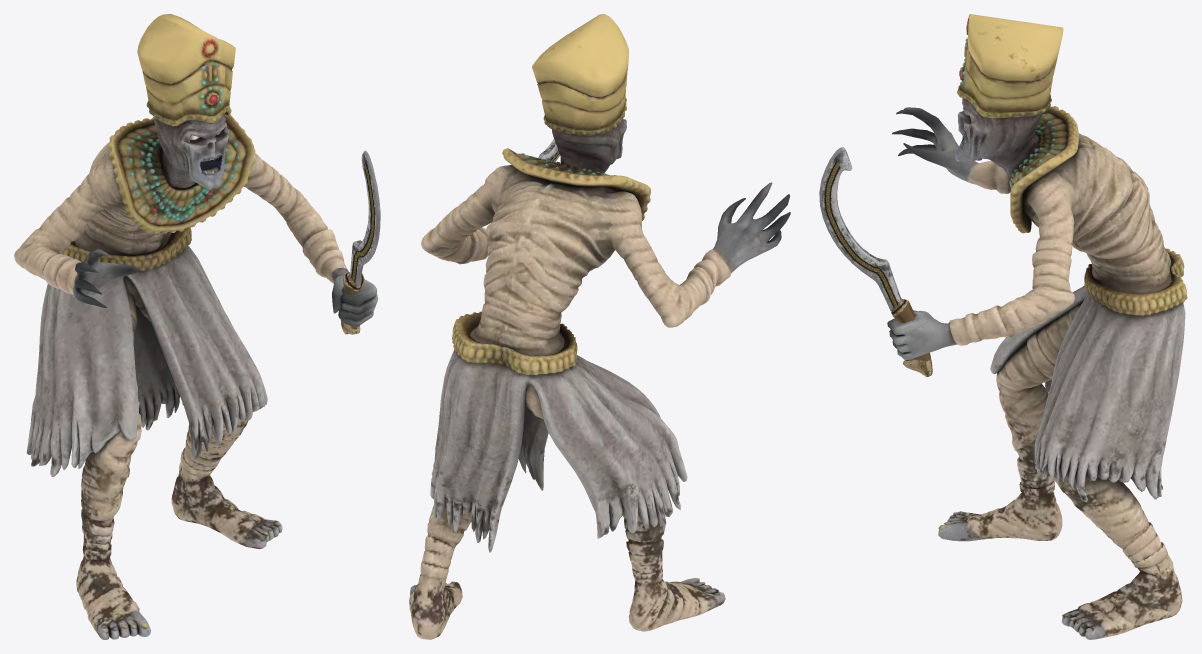
The model's file is MZ4250 - Mummy Lord_Khopesh.glb.
The picture shows the model from 3 angles, left to right: view 1: azimuth 30°, elevation 25°; view 2: azimuth 150°, elevation 25°; view 3: azimuth 270°, elevation 25°; orthographic projection. The views are drawn at different scales.
Parts seen in each view (by area): view 1: Head.002; view 2: Head.002; view 3: Head.002.
Boxes of the visible parts, bbox=[...] form: Head.002: bbox=[14, 14, 380, 639]; Head.002: bbox=[409, 14, 790, 639]; Head.002: bbox=[819, 14, 1187, 639].
Size of the model in its own units: 286 by 529 by 313.
Materials: 2 (2 with a texture image).
